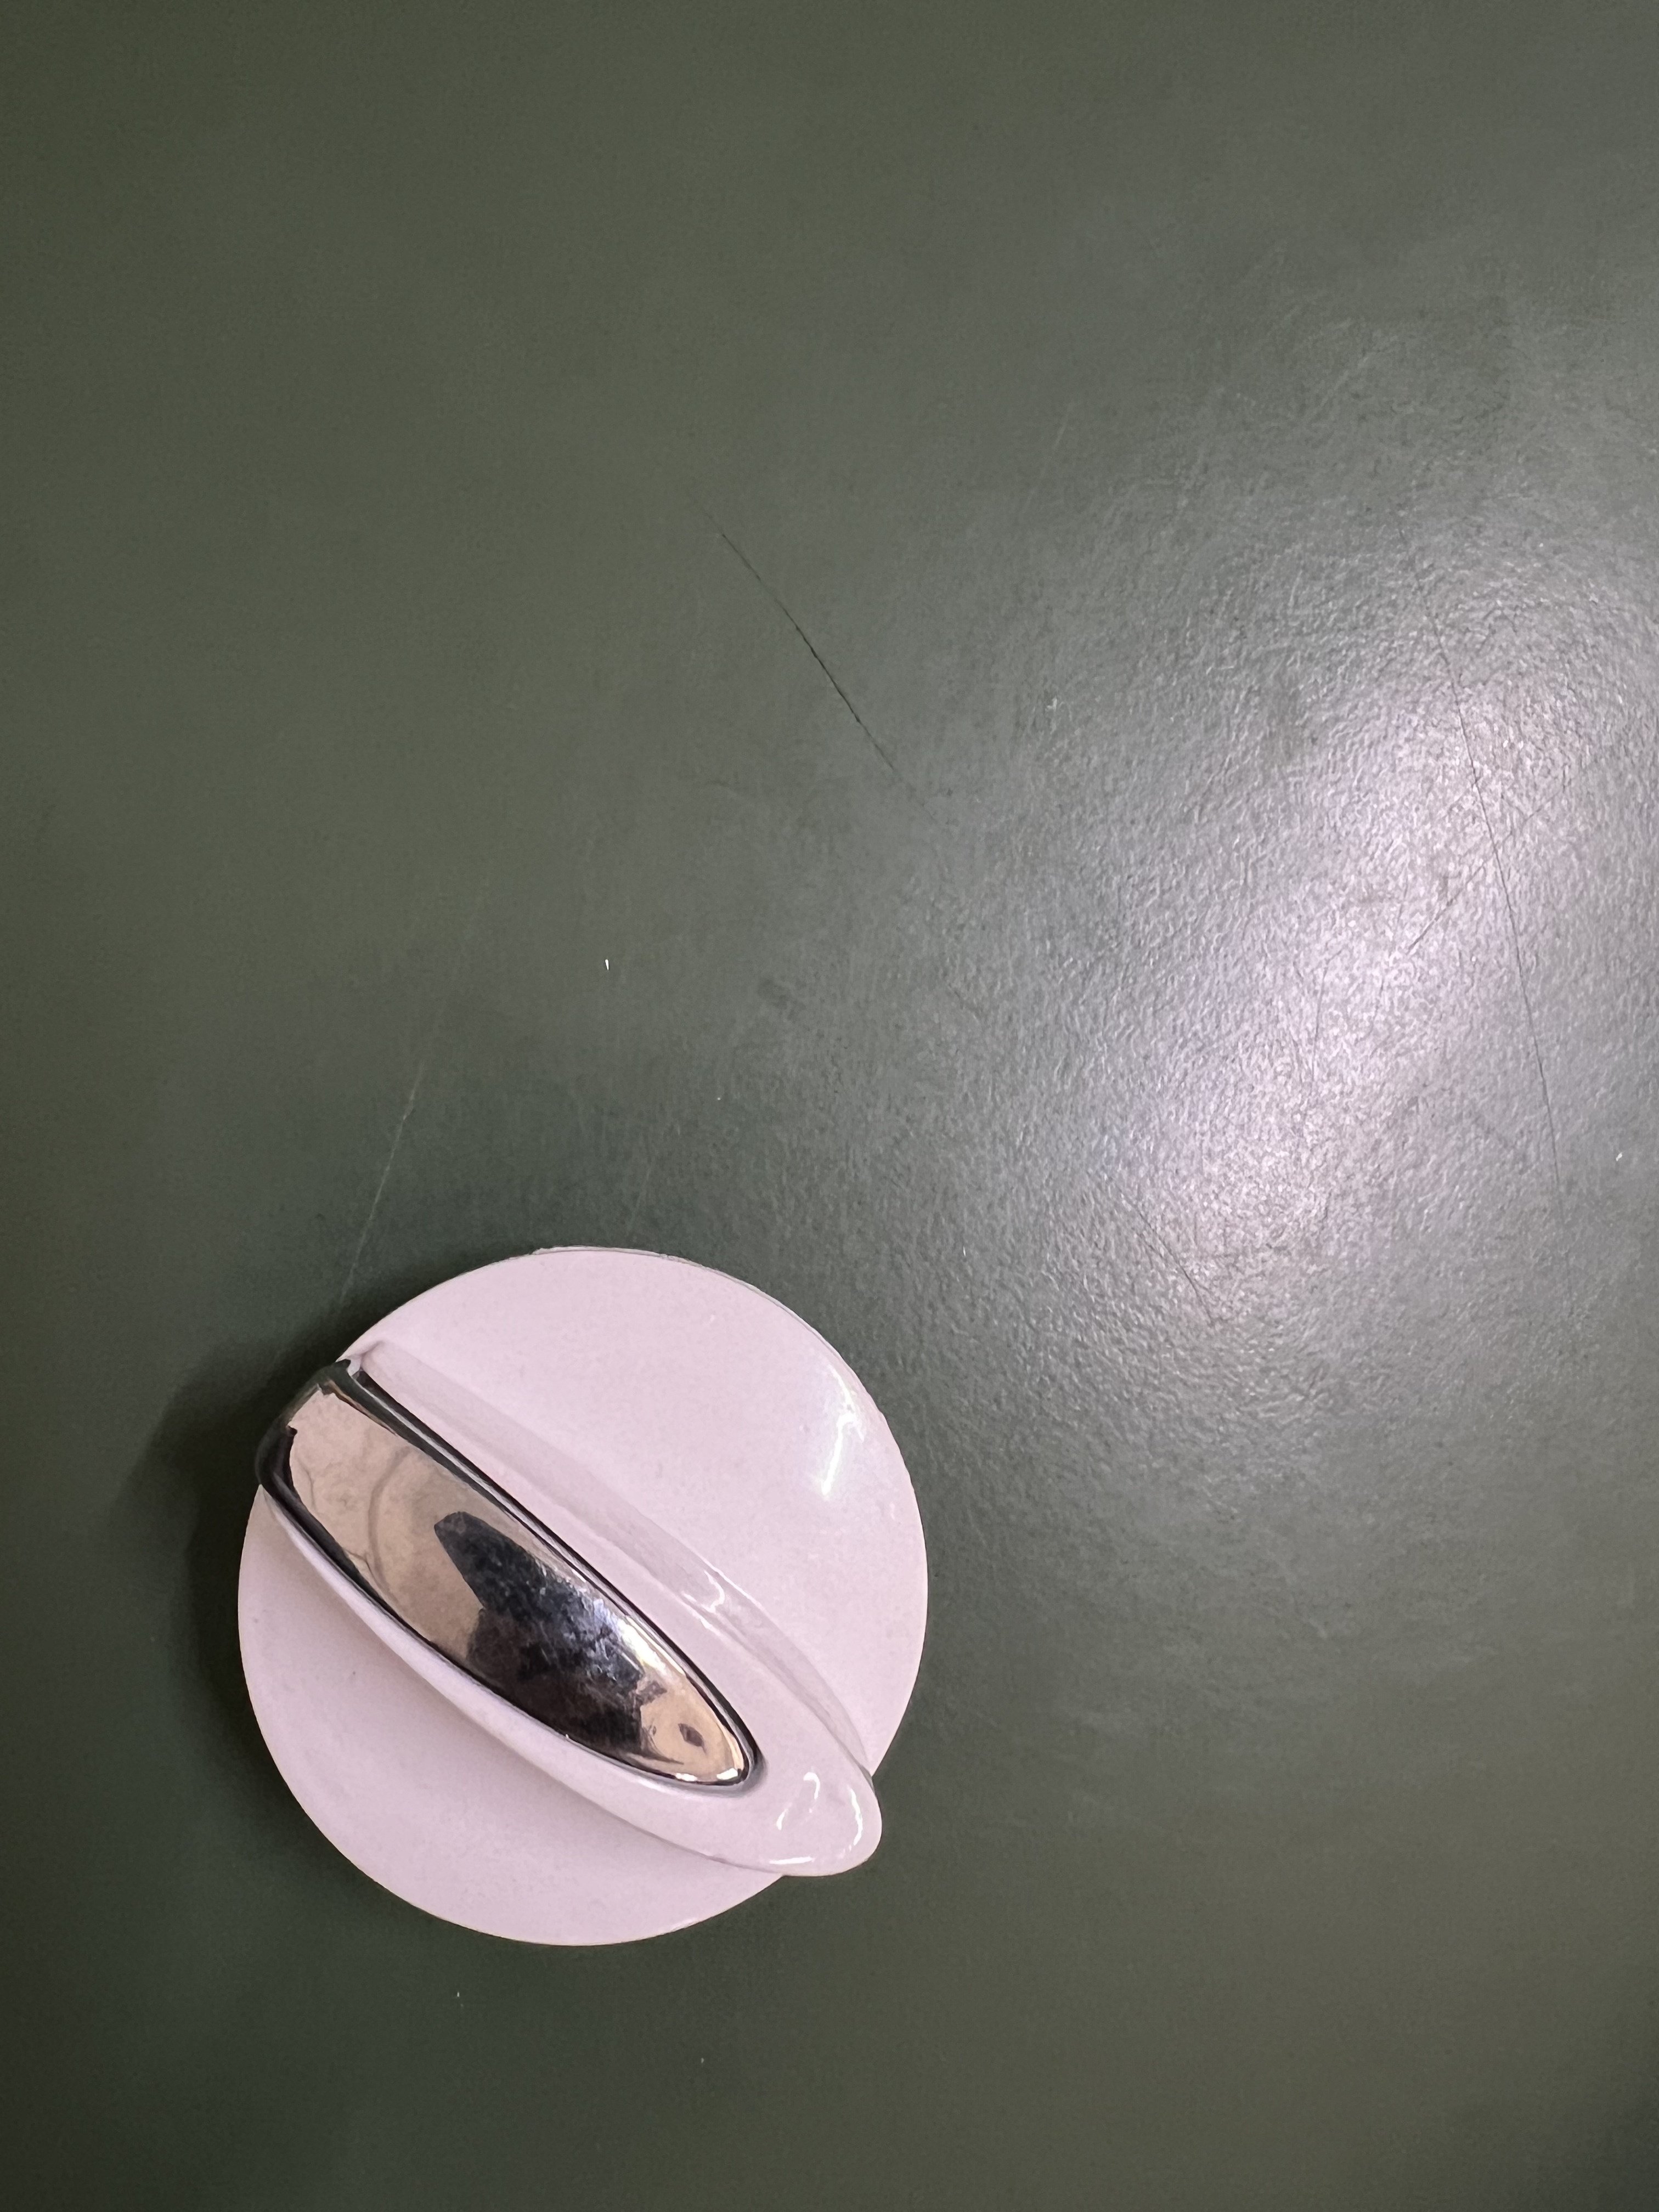regulator: (218, 1242, 951, 1952)
